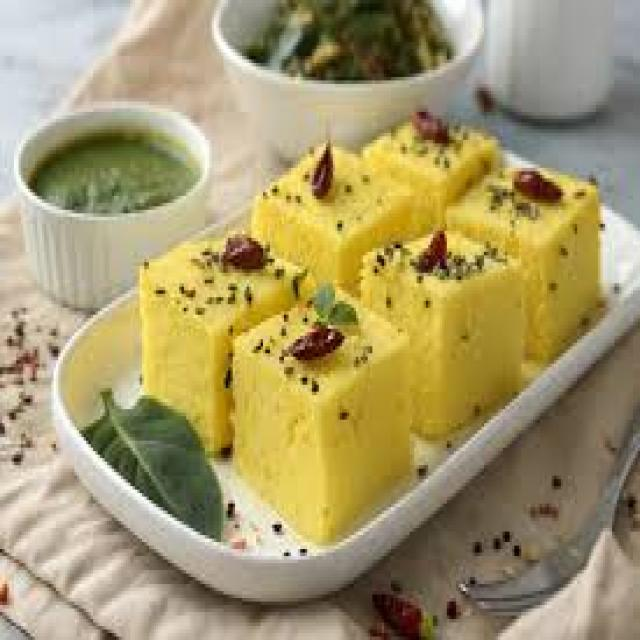DHOKLA: (235, 287, 407, 539), (142, 224, 314, 451), (361, 231, 521, 437), (449, 168, 598, 357), (251, 147, 407, 280)
